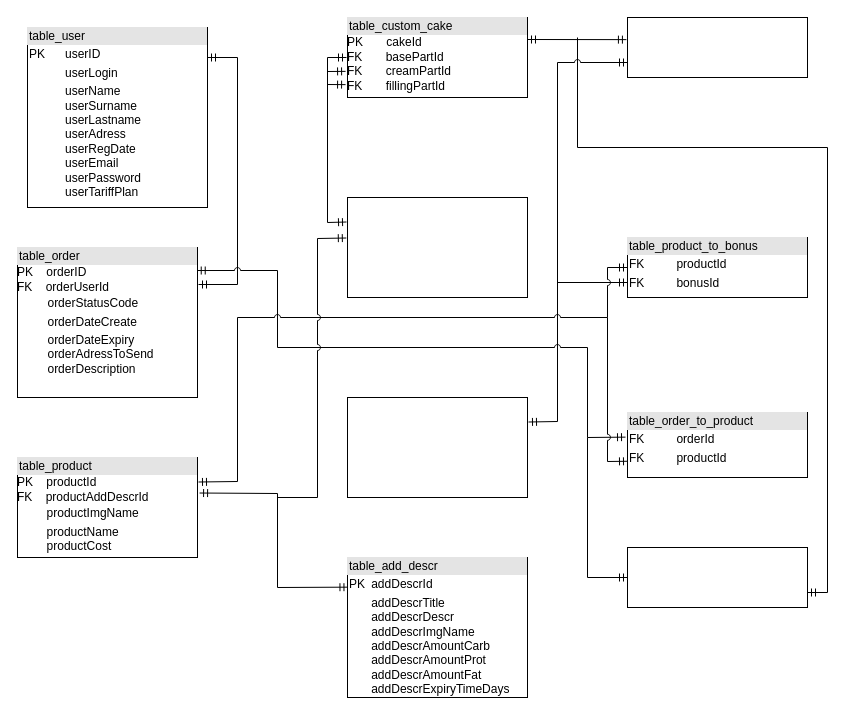
Image size: 853x715. Some labels were removed from this diagram. Here are the shapes that lost their labels. From the top down, the box of each, then its label:
(626, 16, 808, 78): table_part_cake_to_bonus FK partCakeId FK bonusId
(346, 196, 528, 298): table_cake_part PK partId FK partAddDescrId partName partCost partType
(346, 396, 528, 498): table_bonus PK bonusId bonusValue bonusInPercentFlag bonusStartDate bonusEndDate
(626, 546, 808, 608): table_order_to_custom_cake FK orderId FK cakeId
